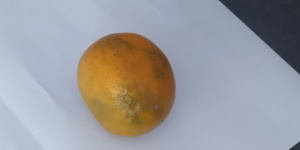BAD: (76, 32, 176, 140)
